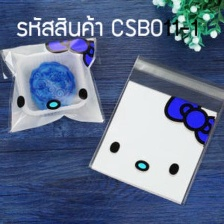snack: (83, 49, 224, 210), (0, 31, 110, 137)
